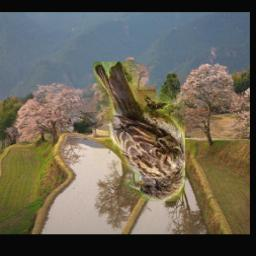Sparrow: (94, 62, 186, 202)
